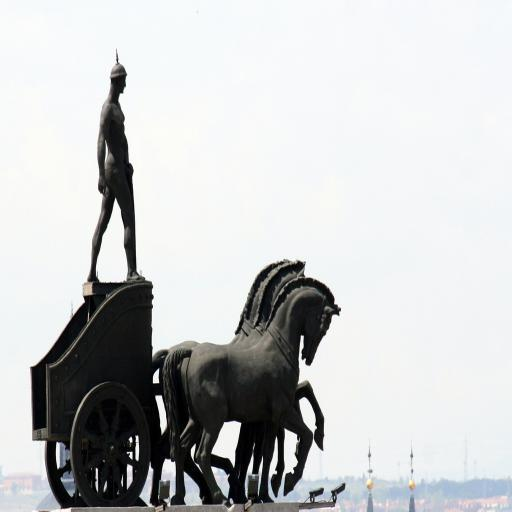horse: (160, 276, 340, 504)
